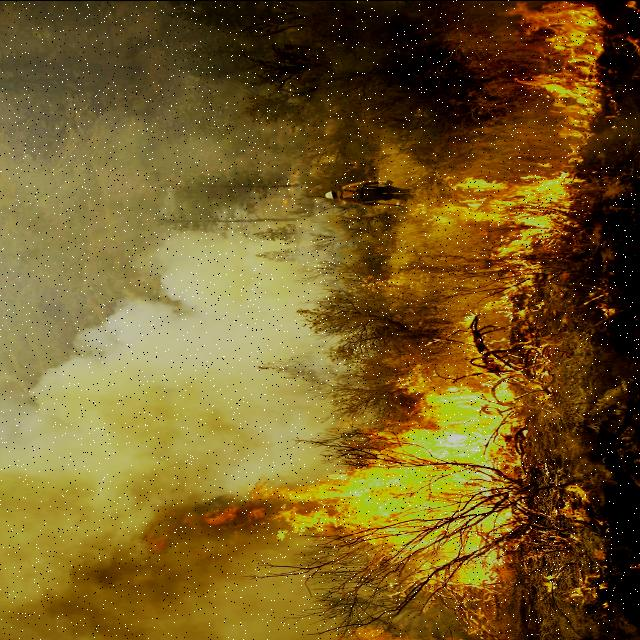api: (141, 360, 531, 611), (412, 160, 592, 338), (504, 1, 615, 147)
asap: (1, 214, 353, 640)
